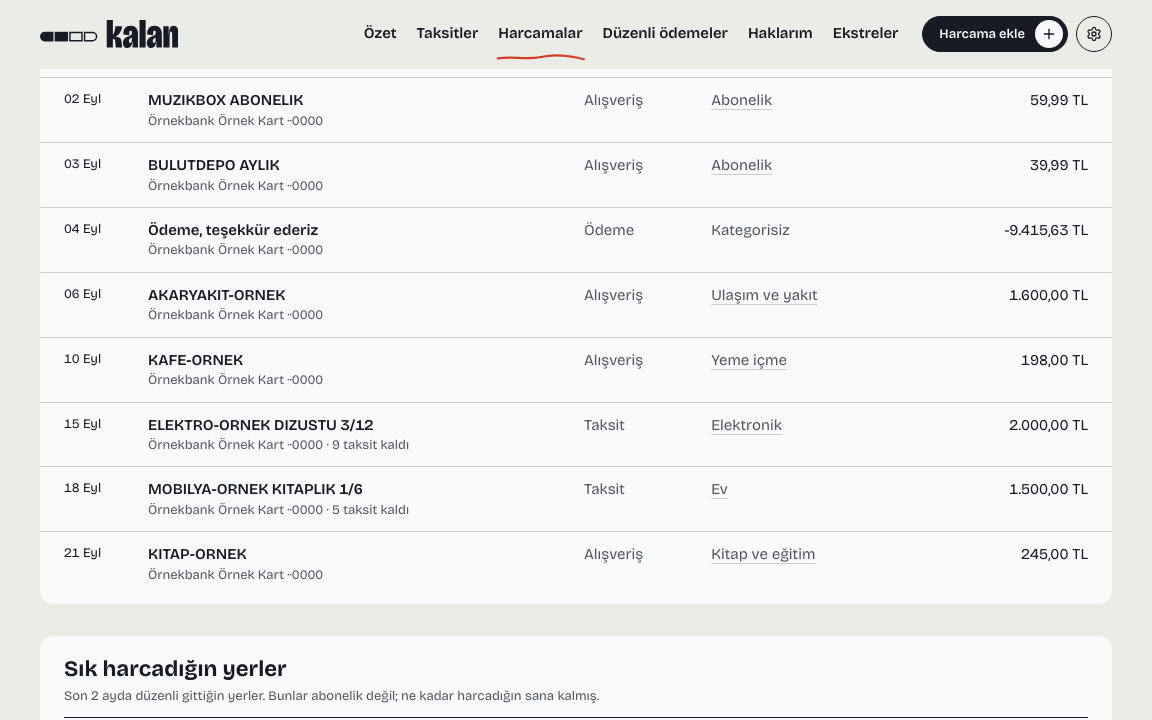
Test: spending: category rules › explains a pattern the back end refuses
(page scrolled)
Click the button with aria-label "Kategoriyi değiştir: KAFE-ORNEK" at (759, 360), box [711, 350, 807, 371]
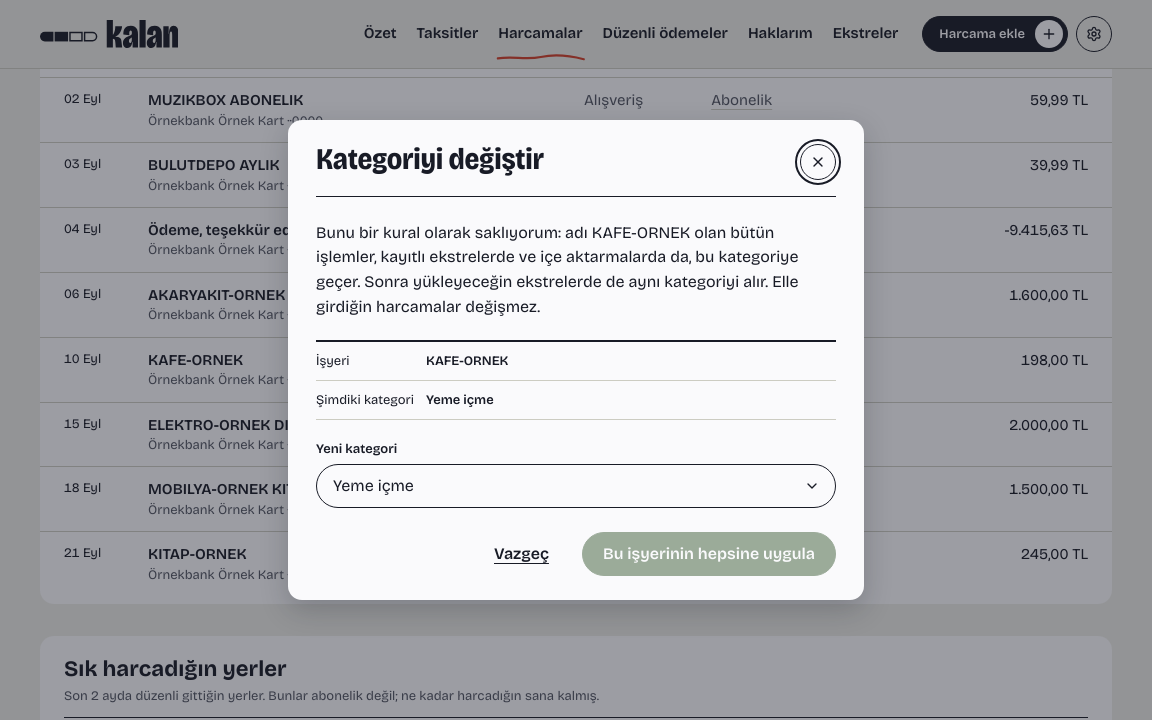
Select "Market" in the dropdown labelled "Yeni kategori" at (576, 486), box [316, 464, 836, 508]
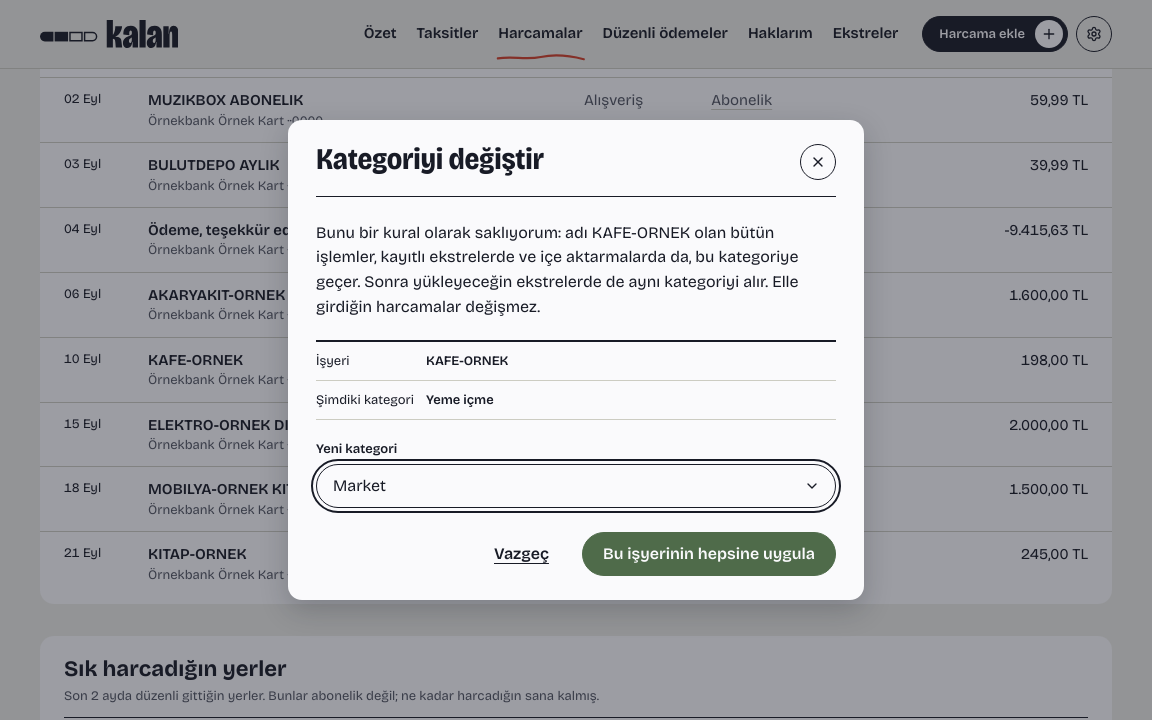
Click the button "Bu işyerinin hepsine uygula" at (709, 554), box [582, 532, 836, 576]
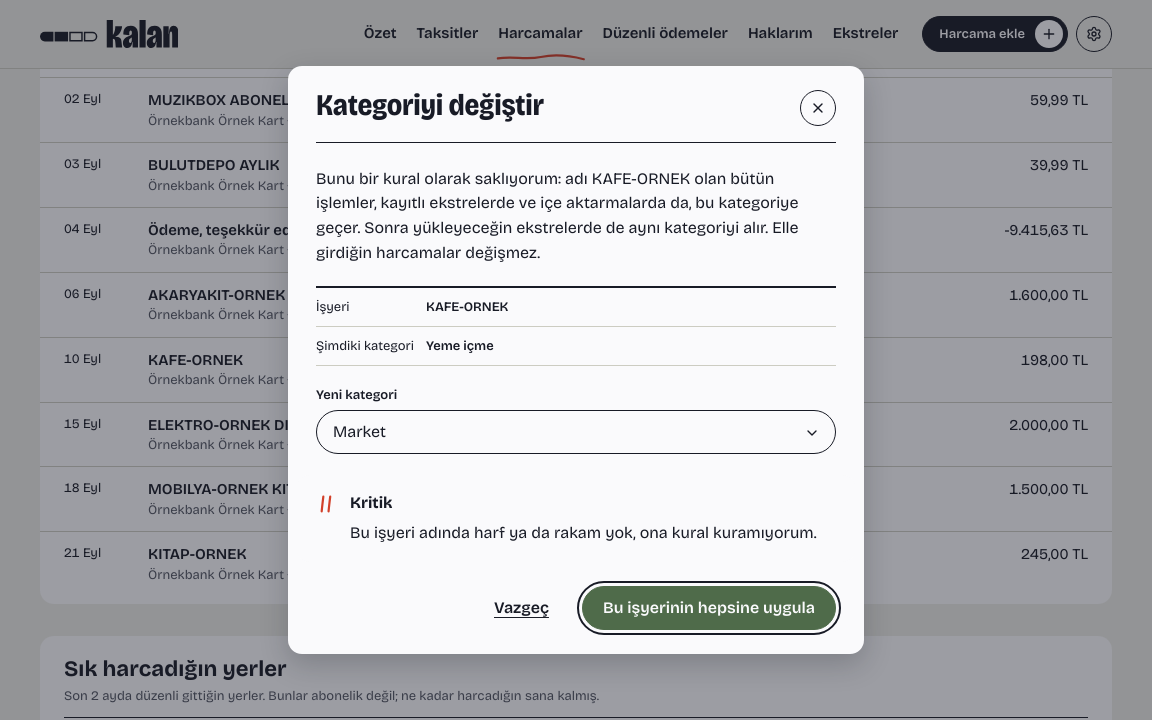
Result: the text "Bu işyeri adında harf ya da rakam yok, ona kural kuramıyorum." is shown at [350, 521, 836, 546]
